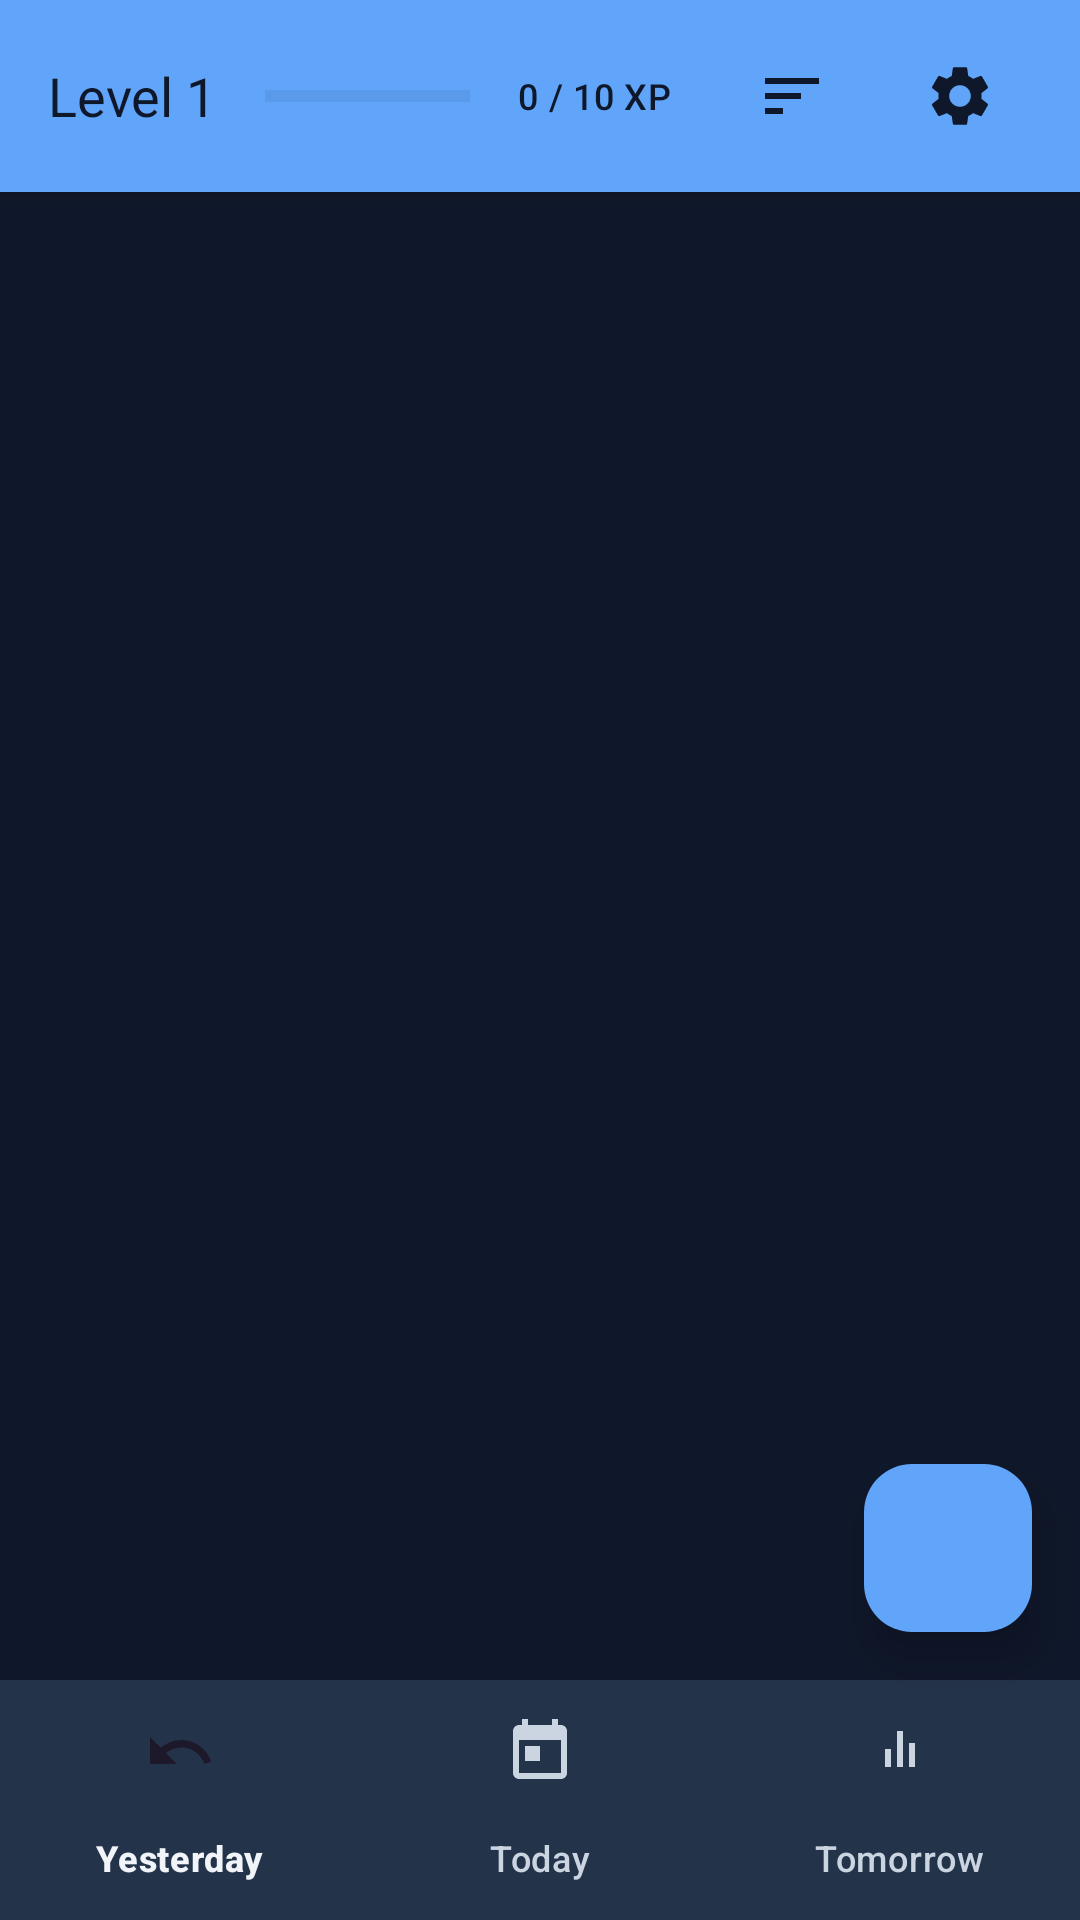

Icon click points for this 1080×1920 phone screenshot, format (x=x, y=y):
Settings: (x=960, y=96)
Sort tasks: (x=792, y=96)
